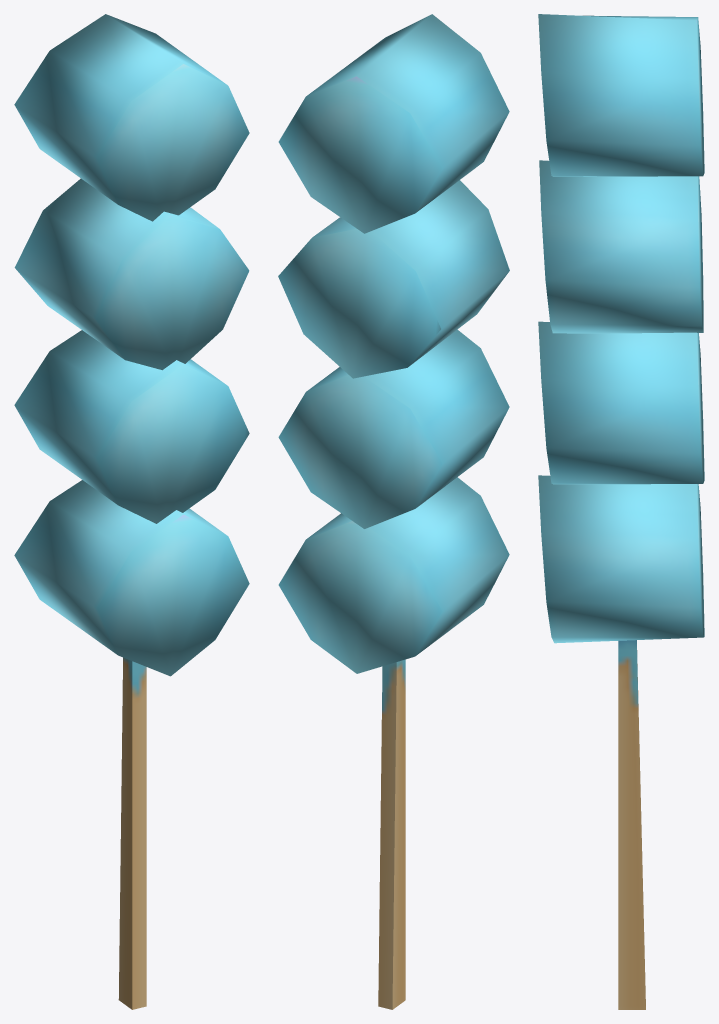
File: jsf_ChocolateBanana_b01_c03.fbx
3 renders of one model, left to right at view 1: azimuth 30°, elevation 25°; view 2: azimuth 150°, elevation 25°; view 3: azimuth 270°, elevation 25°, orthographic. The views are drawn at different scales.
Parts seen in each view (by area): view 1: jsf_ChocolateBanana_b01_c03; view 2: jsf_ChocolateBanana_b01_c03; view 3: jsf_ChocolateBanana_b01_c03.
Part boxes in pixels (x1,y1,x2,y2): jsf_ChocolateBanana_b01_c03: (14, 14, 249, 1009); jsf_ChocolateBanana_b01_c03: (278, 14, 509, 1009); jsf_ChocolateBanana_b01_c03: (538, 14, 704, 1009).
Size of the model in its own units: 4.07 by 22.49 by 3.41.
